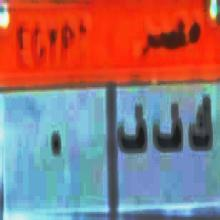0: (45, 122, 68, 168)
faa: (152, 100, 186, 164), (117, 100, 147, 162)
kaaf: (188, 94, 214, 165)
